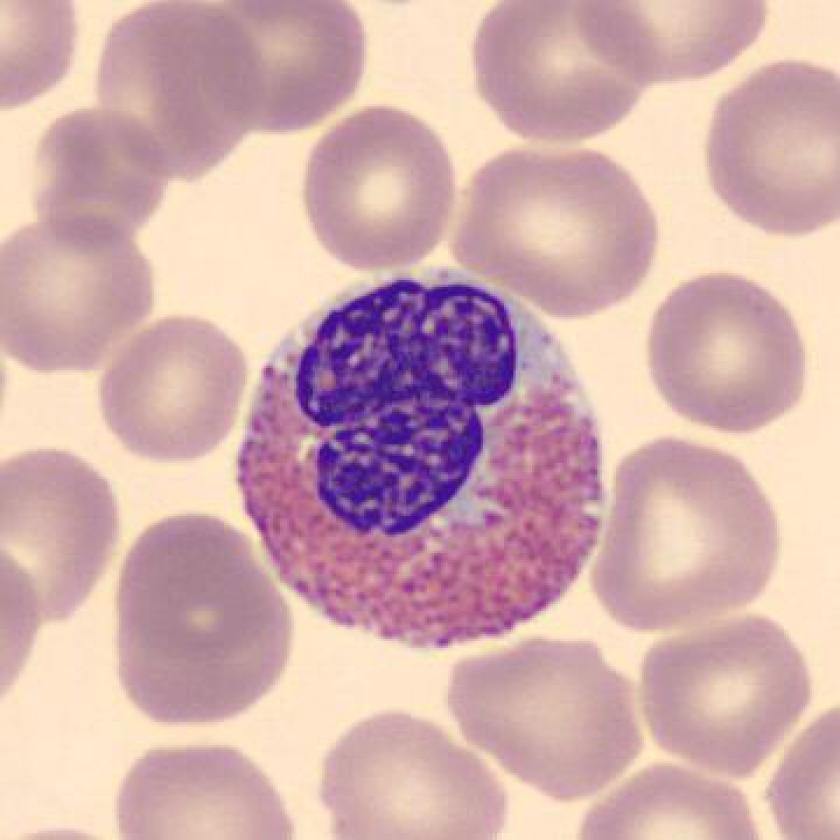eosinophil: (230, 253, 624, 658)
